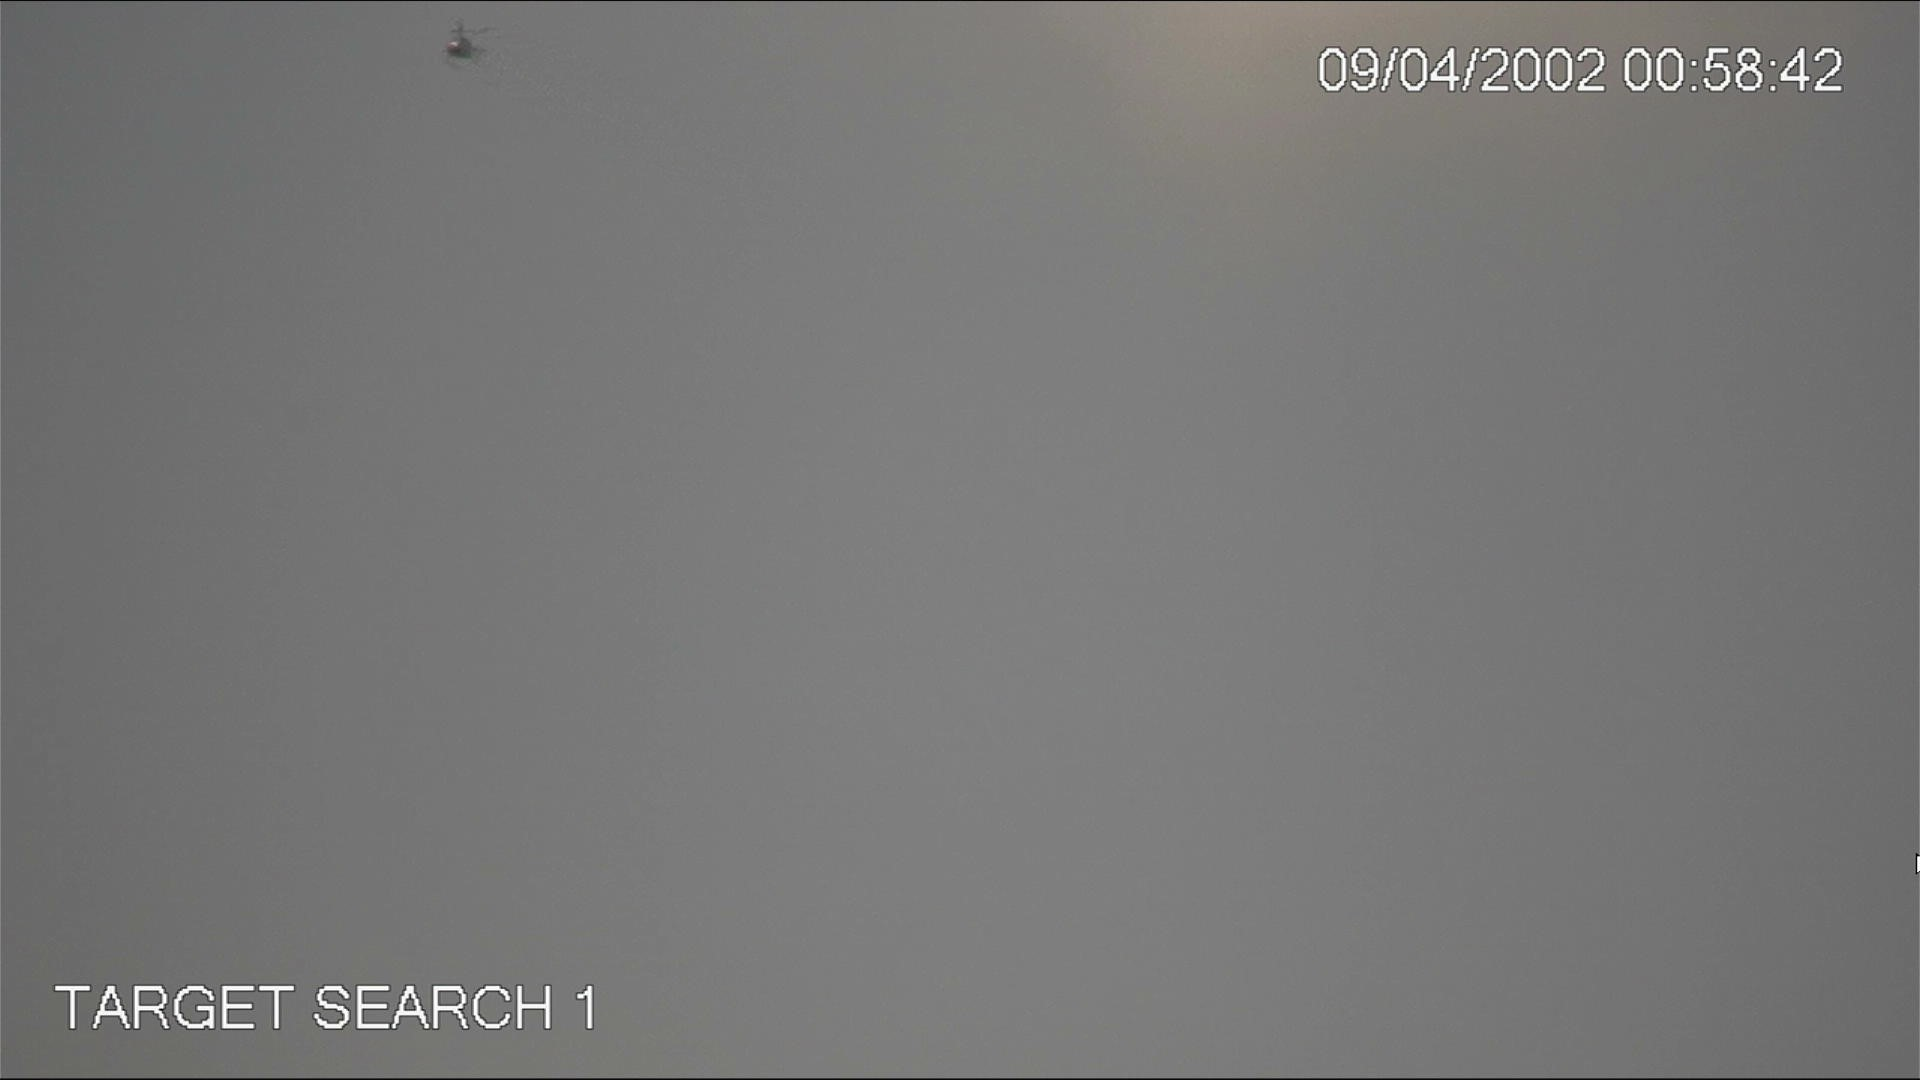SU_30: (440, 20, 492, 73)
